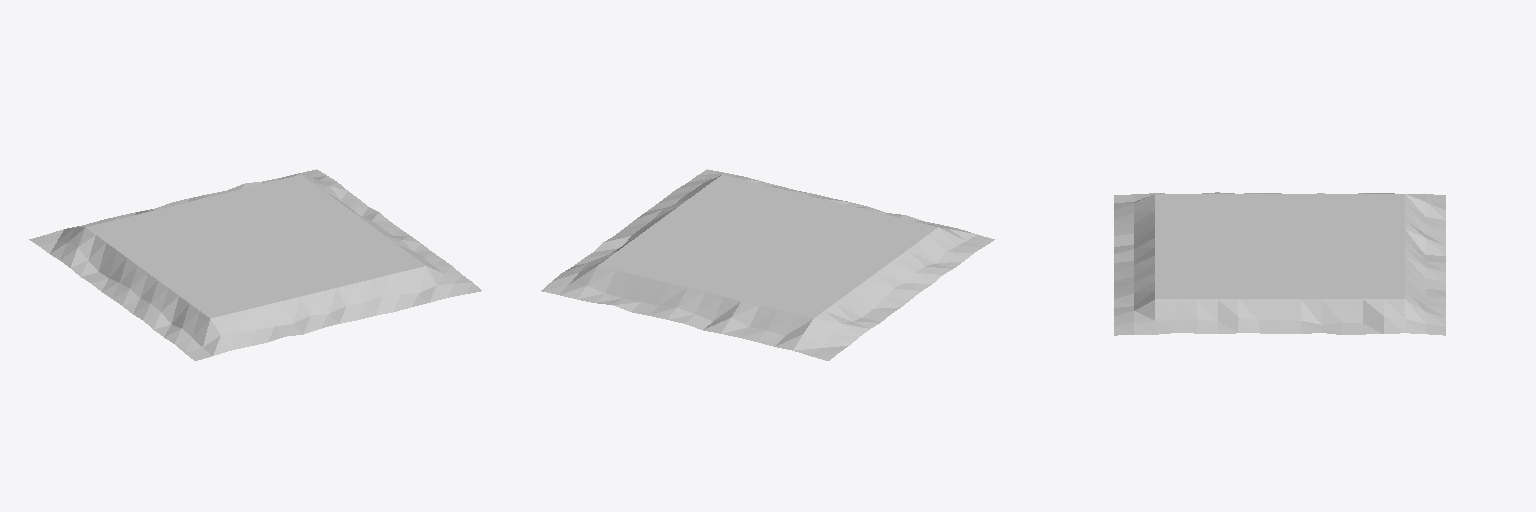
Rendered from board.obj.
3 views of the same model, side by side, from view 1: azimuth 30°, elevation 25°; view 2: azimuth 150°, elevation 25°; view 3: azimuth 270°, elevation 25° (orthographic).
Parts seen in each view (by area): view 1: board; view 2: board; view 3: board.
Boxes of the visible parts, x1=… form: board: x1=29, y1=169, x2=481, y2=360; board: x1=541, y1=169, x2=994, y2=360; board: x1=1114, y1=192, x2=1445, y2=335.
Size of the model in its own units: 32 by 2 by 32.